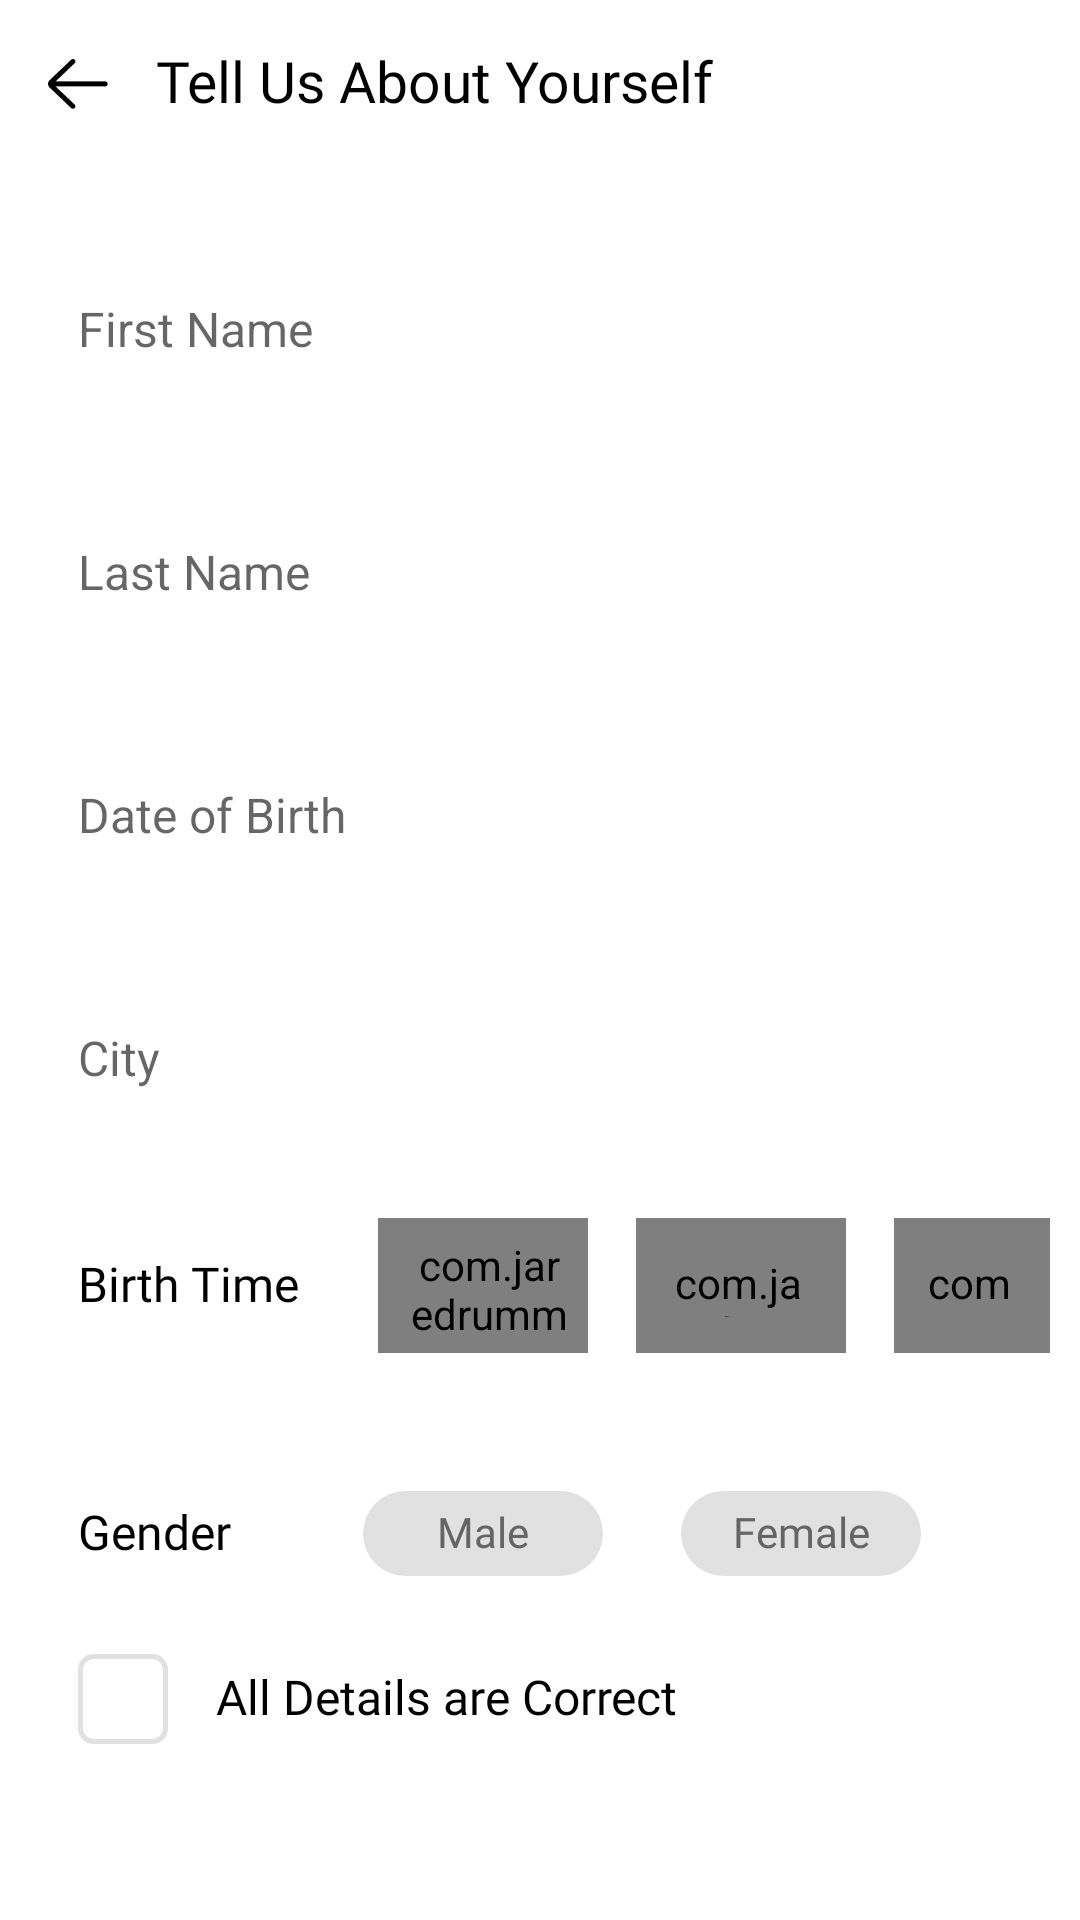

Named icons in this screenshot (1080w x 1920h) and their centers, (x=x, y=y):
back: (x=78, y=84)
uncheck: (x=123, y=1699)
